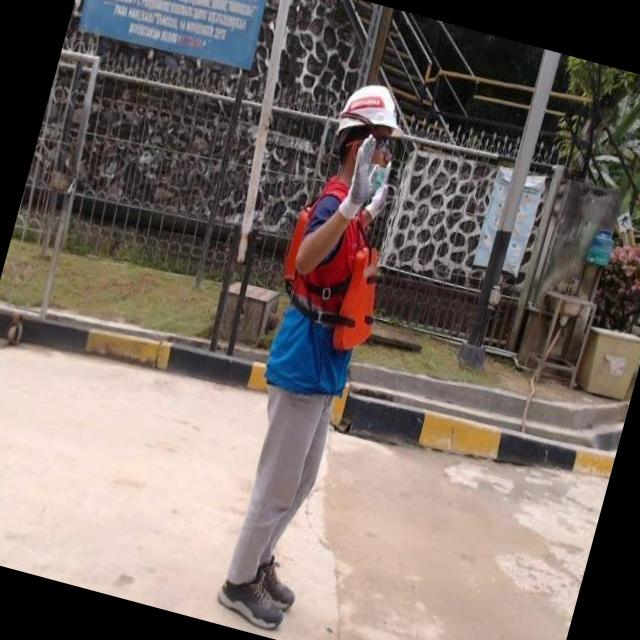hard_hat: (325, 70, 415, 154)
safety_vest: (248, 174, 416, 390)
vehicle: (149, 31, 474, 640)
work_boots: (208, 560, 296, 638), (244, 552, 308, 616)
